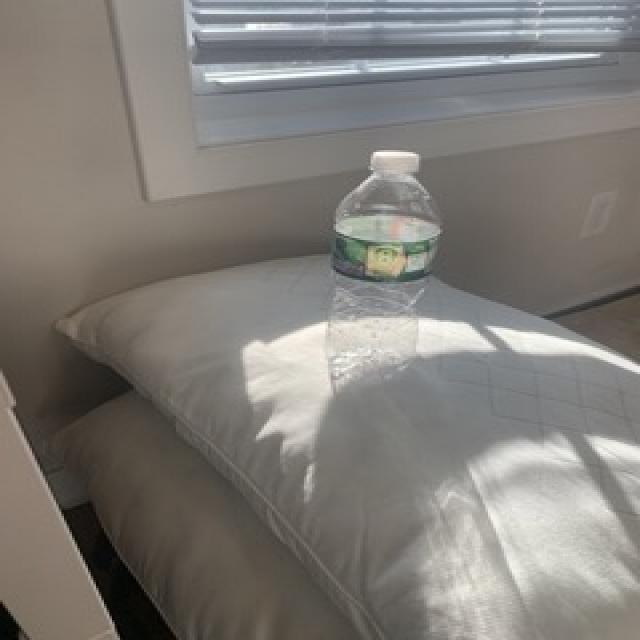water_bottle: (320, 150, 443, 371)
